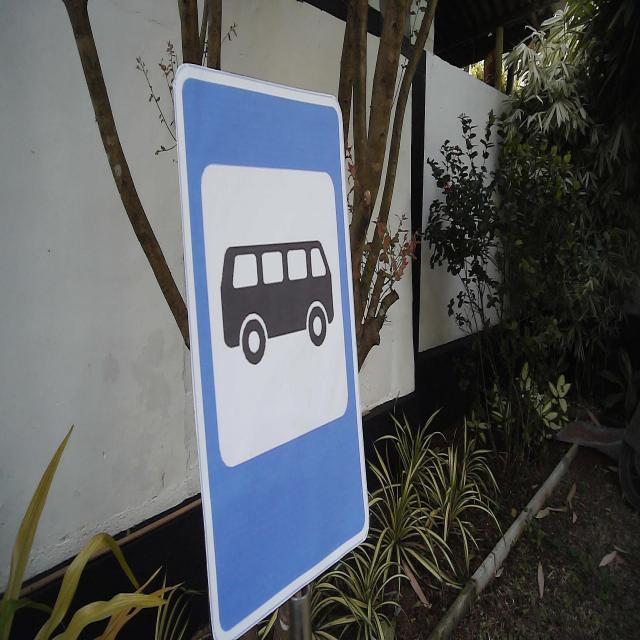bus_stop: (172, 60, 370, 640)
